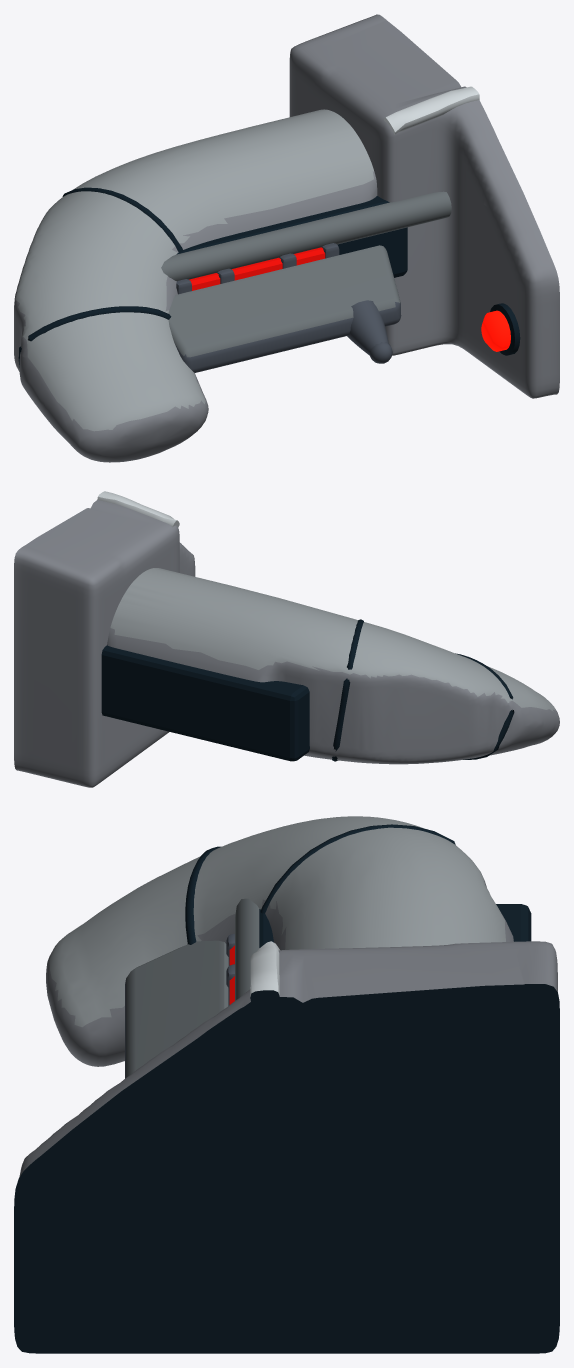
File: claw_hook_r.glb
3 views of the same model, one above another, from view 1: azimuth 30°, elevation 25°; view 2: azimuth 150°, elevation 25°; view 3: azimuth 270°, elevation 25° (orthographic). The views are drawn at different scales.
Parts seen in each view (by area): view 1: hump.001, housing-1.001, lip.001, ledge.001, core.001, crease-1.001, lamp-1.001, fang.001, vent.001, knuckle1.001, knuckle0.001; view 2: hump.001, housing-1.001, core.001, knuckle0.001, crease-1.001, knuckle1.001; view 3: housing-1.001, hump.001, lip.001, ledge.001, crease-1.001, core.001, knuckle0.001, knuckle1.001.
Part boxes in pixels (x1,y1,x2,y2): hump.001: [14, 109, 377, 462]; housing-1.001: [289, 14, 559, 398]; lip.001: [168, 245, 401, 372]; ledge.001: [161, 191, 451, 281]; core.001: [176, 196, 407, 277]; crease-1.001: [384, 86, 479, 134]; lamp-1.001: [481, 303, 520, 355]; fang.001: [347, 300, 388, 355]; vent.001: [189, 247, 325, 290]; knuckle1.001: [18, 306, 171, 367]; knuckle0.001: [62, 187, 183, 252]; hump.001: [107, 568, 559, 764]; housing-1.001: [14, 500, 195, 787]; core.001: [101, 645, 309, 761]; knuckle0.001: [332, 619, 363, 761]; crease-1.001: [97, 491, 179, 527]; knuckle1.001: [455, 653, 514, 759]; housing-1.001: [14, 941, 559, 1353]; hump.001: [46, 816, 513, 1066]; lip.001: [125, 940, 229, 1078]; ledge.001: [235, 898, 259, 1000]; crease-1.001: [250, 941, 279, 1009]; core.001: [259, 904, 531, 947]; knuckle0.001: [260, 824, 455, 913]; knuckle1.001: [185, 846, 221, 944].
Bounding box in the file's own units: 22.56 × 11.56 × 15.47.
